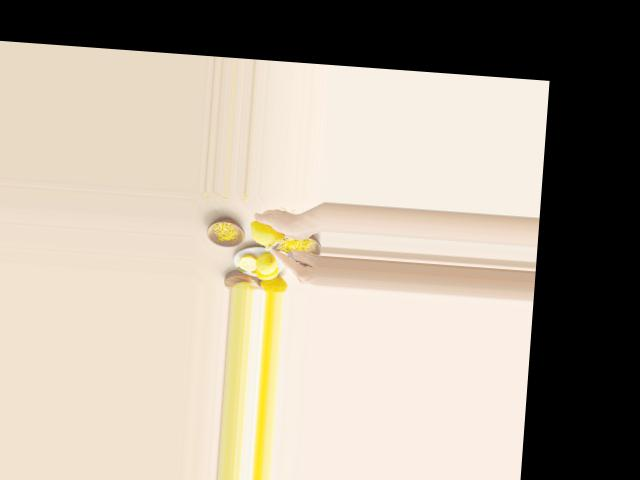lemon: (250, 215, 286, 249)
